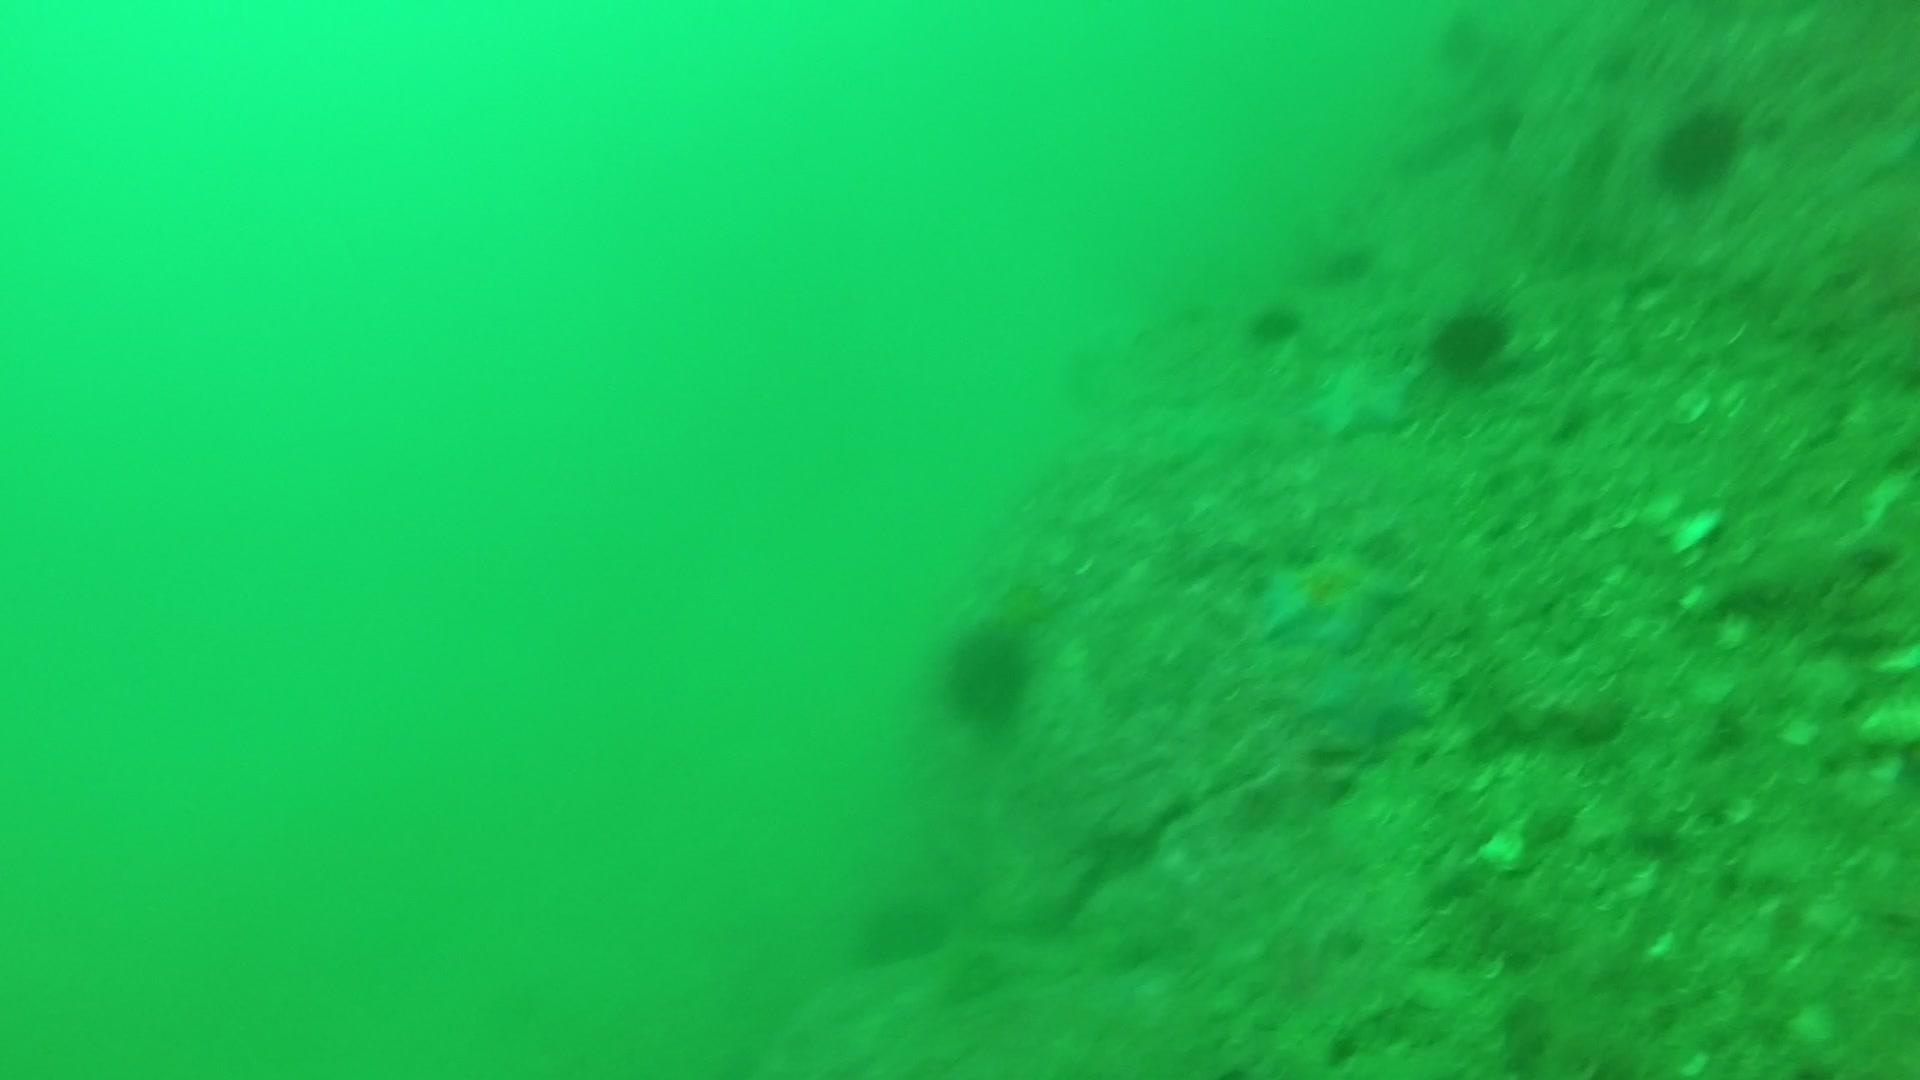echinus: (930, 613, 1044, 731), (1648, 100, 1749, 196), (851, 887, 952, 971), (1424, 295, 1516, 382), (1315, 233, 1378, 287), (1477, 102, 1540, 156), (1424, 8, 1487, 62), (1244, 295, 1305, 349)
starfish: (1253, 539, 1414, 654), (1298, 650, 1439, 756), (1302, 349, 1422, 444)
